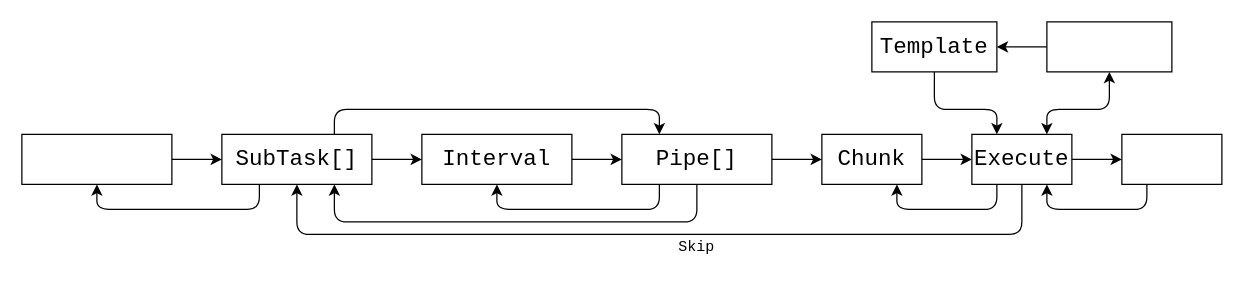
The diagram is 1244 pixels wide and 281 high, and some of its shapes have lost their labels. The shapes that lost their labels are listed below. From the top down, each one's centre as x and y in pixels, then its label:
At point 1109,46: "Register".
At point 96,158: "Task[]".
At point 1171,158: "Retry".
